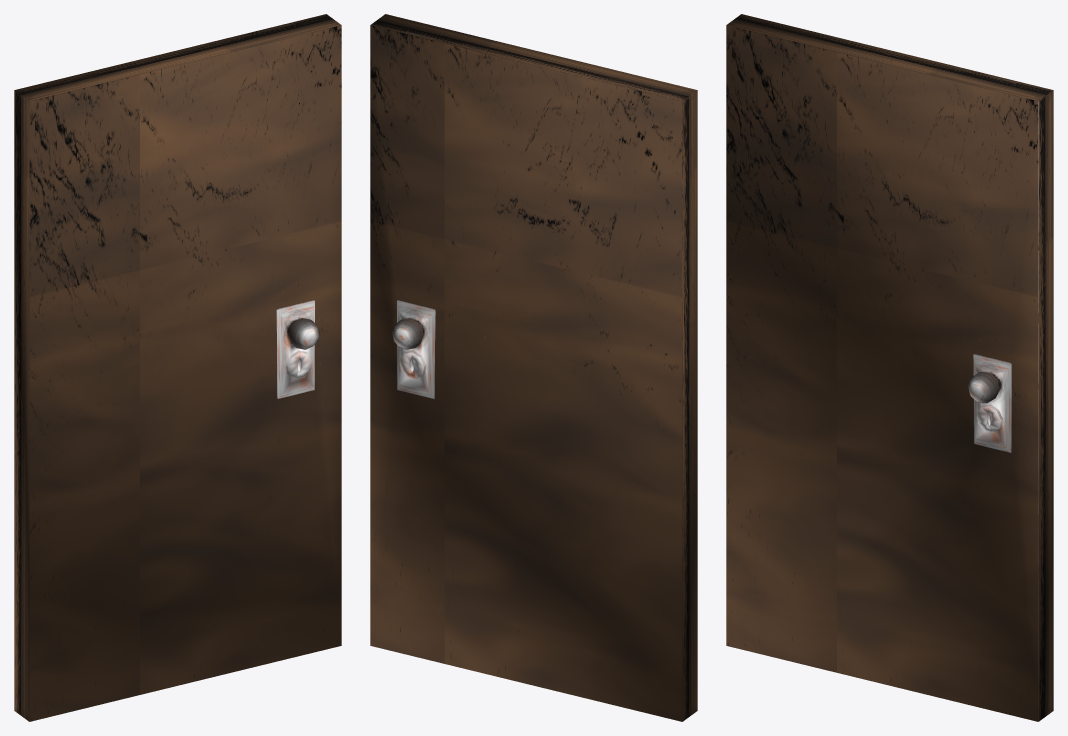
The model's file is Cabin Door.fbx.
3 views of the same model, side by side, from view 1: azimuth 30°, elevation 25°; view 2: azimuth 150°, elevation 25°; view 3: azimuth 330°, elevation 25° (orthographic).
Parts seen in each view (by area): view 1: Door; view 2: Door; view 3: Door.
Boxes of the visible parts, x1=… form: Door: x1=14, y1=14, x2=341, y2=721; Door: x1=370, y1=14, x2=697, y2=721; Door: x1=726, y1=14, x2=1053, y2=721.
Size of the model in its own units: 127 by 242 by 34.05.
